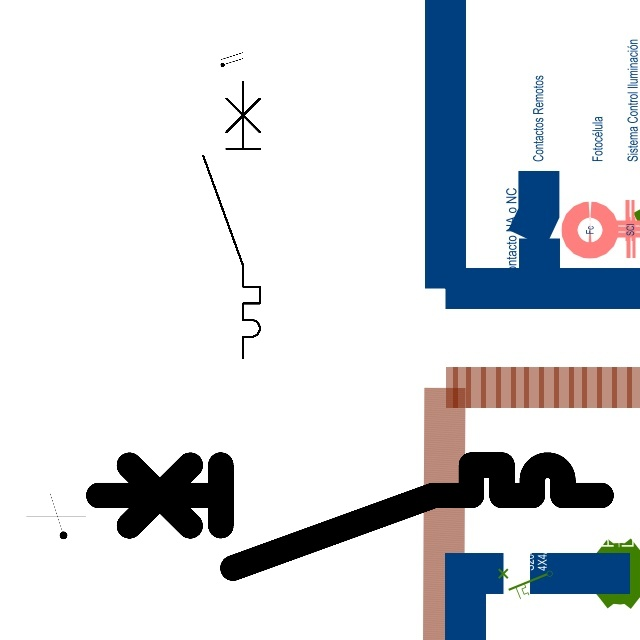interruptor_termomagnetico: (85, 452, 613, 581), (196, 74, 267, 364)
